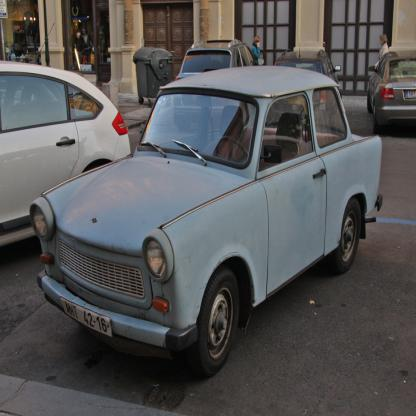Car: (27, 57, 382, 380), (1, 64, 134, 255), (173, 40, 258, 135), (275, 50, 344, 134), (369, 52, 416, 139)
